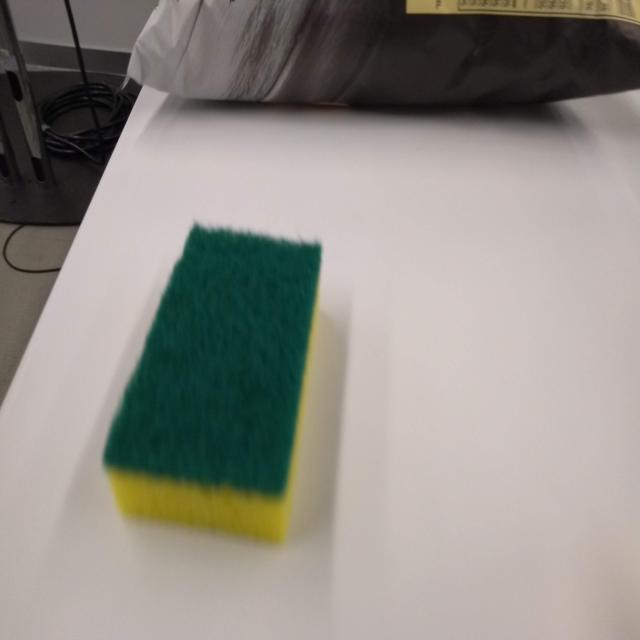scrubby: (101, 218, 329, 554)
